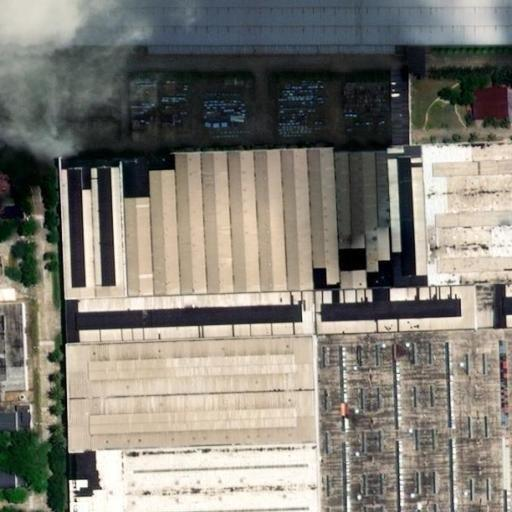building: (82, 155, 512, 512), (66, 0, 512, 49), (404, 48, 432, 159), (470, 83, 511, 122), (0, 468, 21, 489)
